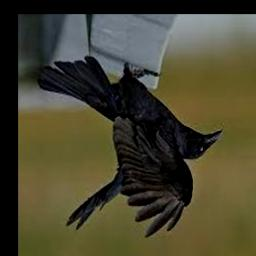Crow: (38, 56, 223, 238)
